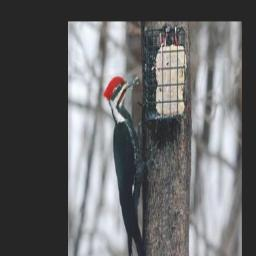Woodpecker: (103, 71, 160, 256)
